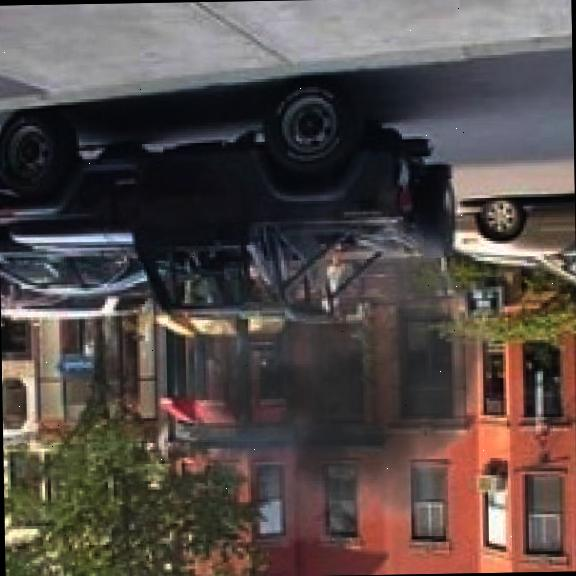smoke: (165, 168, 517, 566)
